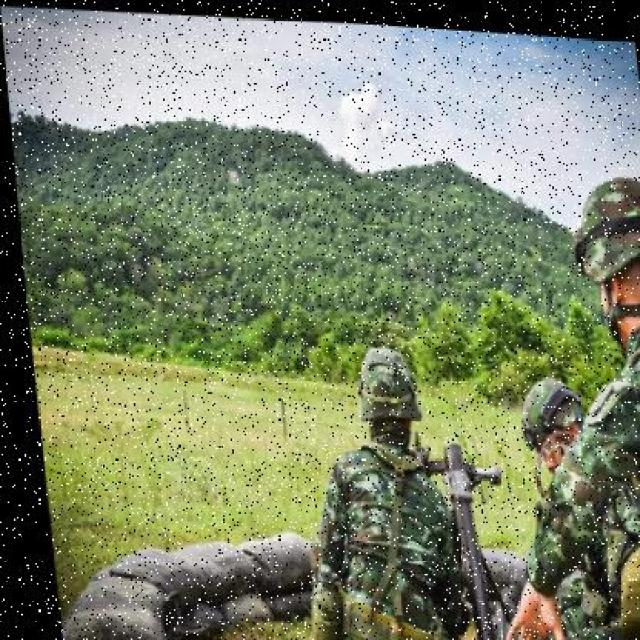MIL_Pax: (263, 317, 494, 640), (486, 347, 640, 640), (544, 180, 640, 640)
